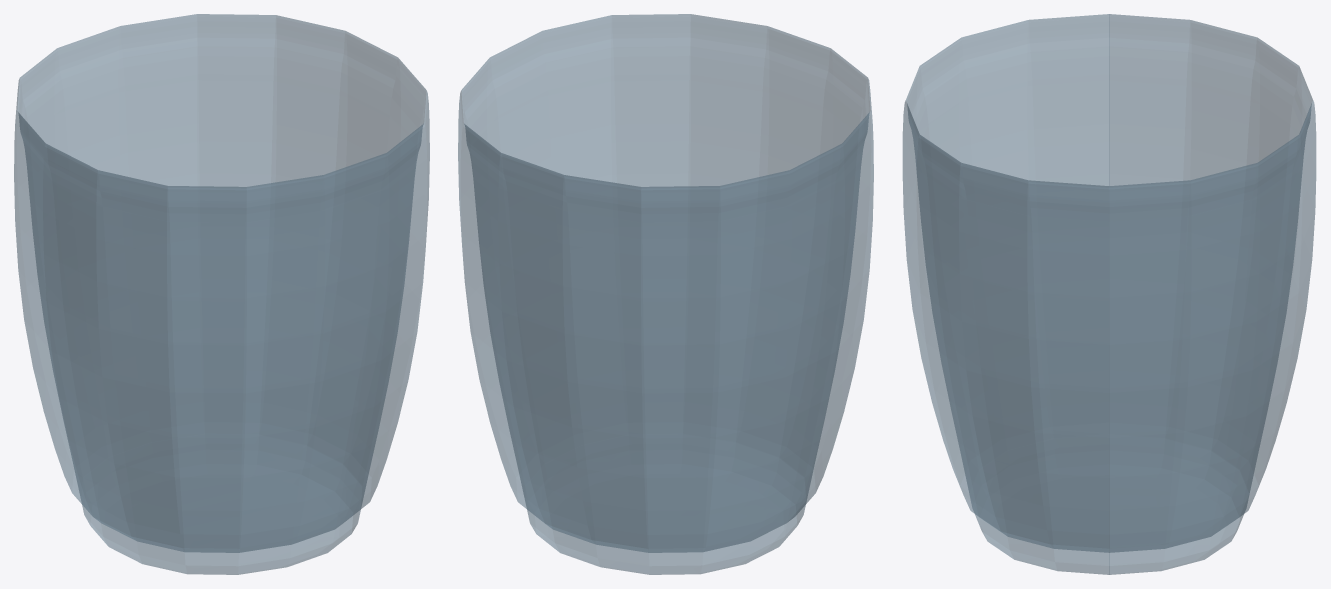
The model's file is glassCup.dae.
3 views of the same model, side by side, from view 1: azimuth 30°, elevation 25°; view 2: azimuth 150°, elevation 25°; view 3: azimuth 270°, elevation 25° (orthographic).
Parts seen in each view (by area): view 1: glassCup; view 2: glassCup; view 3: glassCup.
Boxes of the visible parts, x1=… form: glassCup: x1=14, y1=14, x2=429, y2=574; glassCup: x1=458, y1=14, x2=873, y2=574; glassCup: x1=902, y1=14, x2=1316, y2=574.
Bounding box in the file's own units: 1.13 × 1.28 × 1.13.
